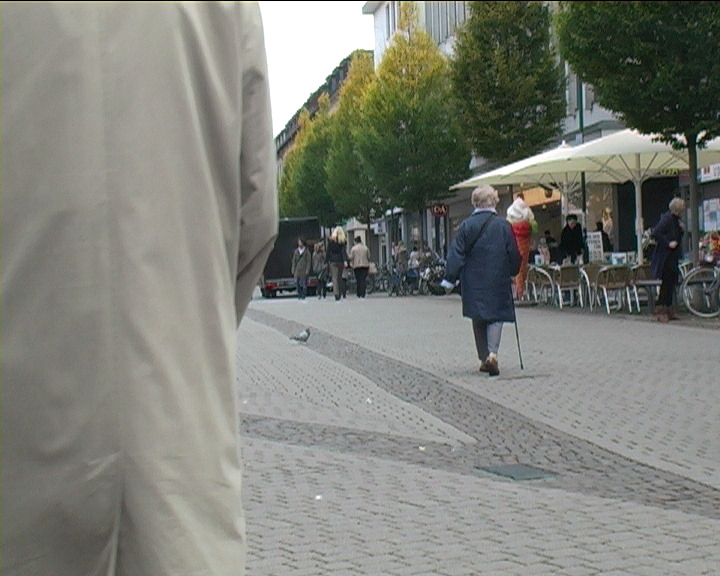undeflect: (454, 183, 519, 243)
